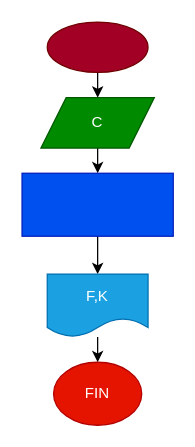
The diagram is 195 pixels wide and 447 high, and some of its shapes have lost their labels. The box of each missing label's shape, as (x1, y1, x2, y2) in pixels:
F=9/5C+32 K=273.15+C: (21, 172, 173, 236)
incio: (46, 21, 148, 72)
